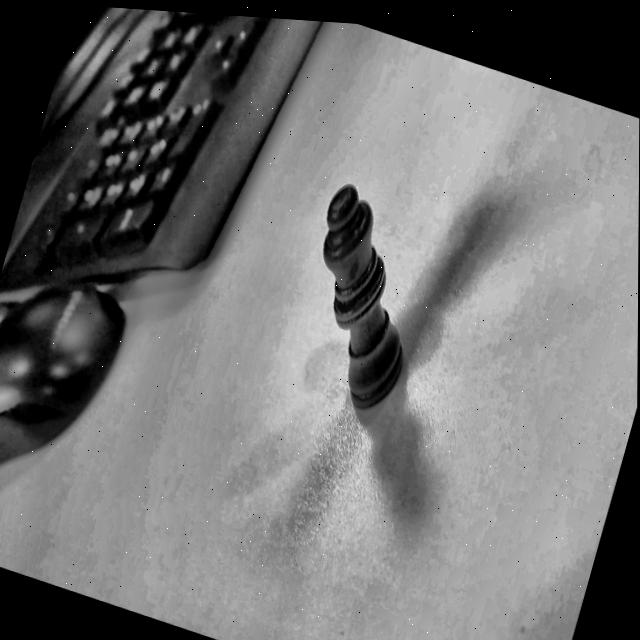black-queen: (261, 167, 452, 445)
